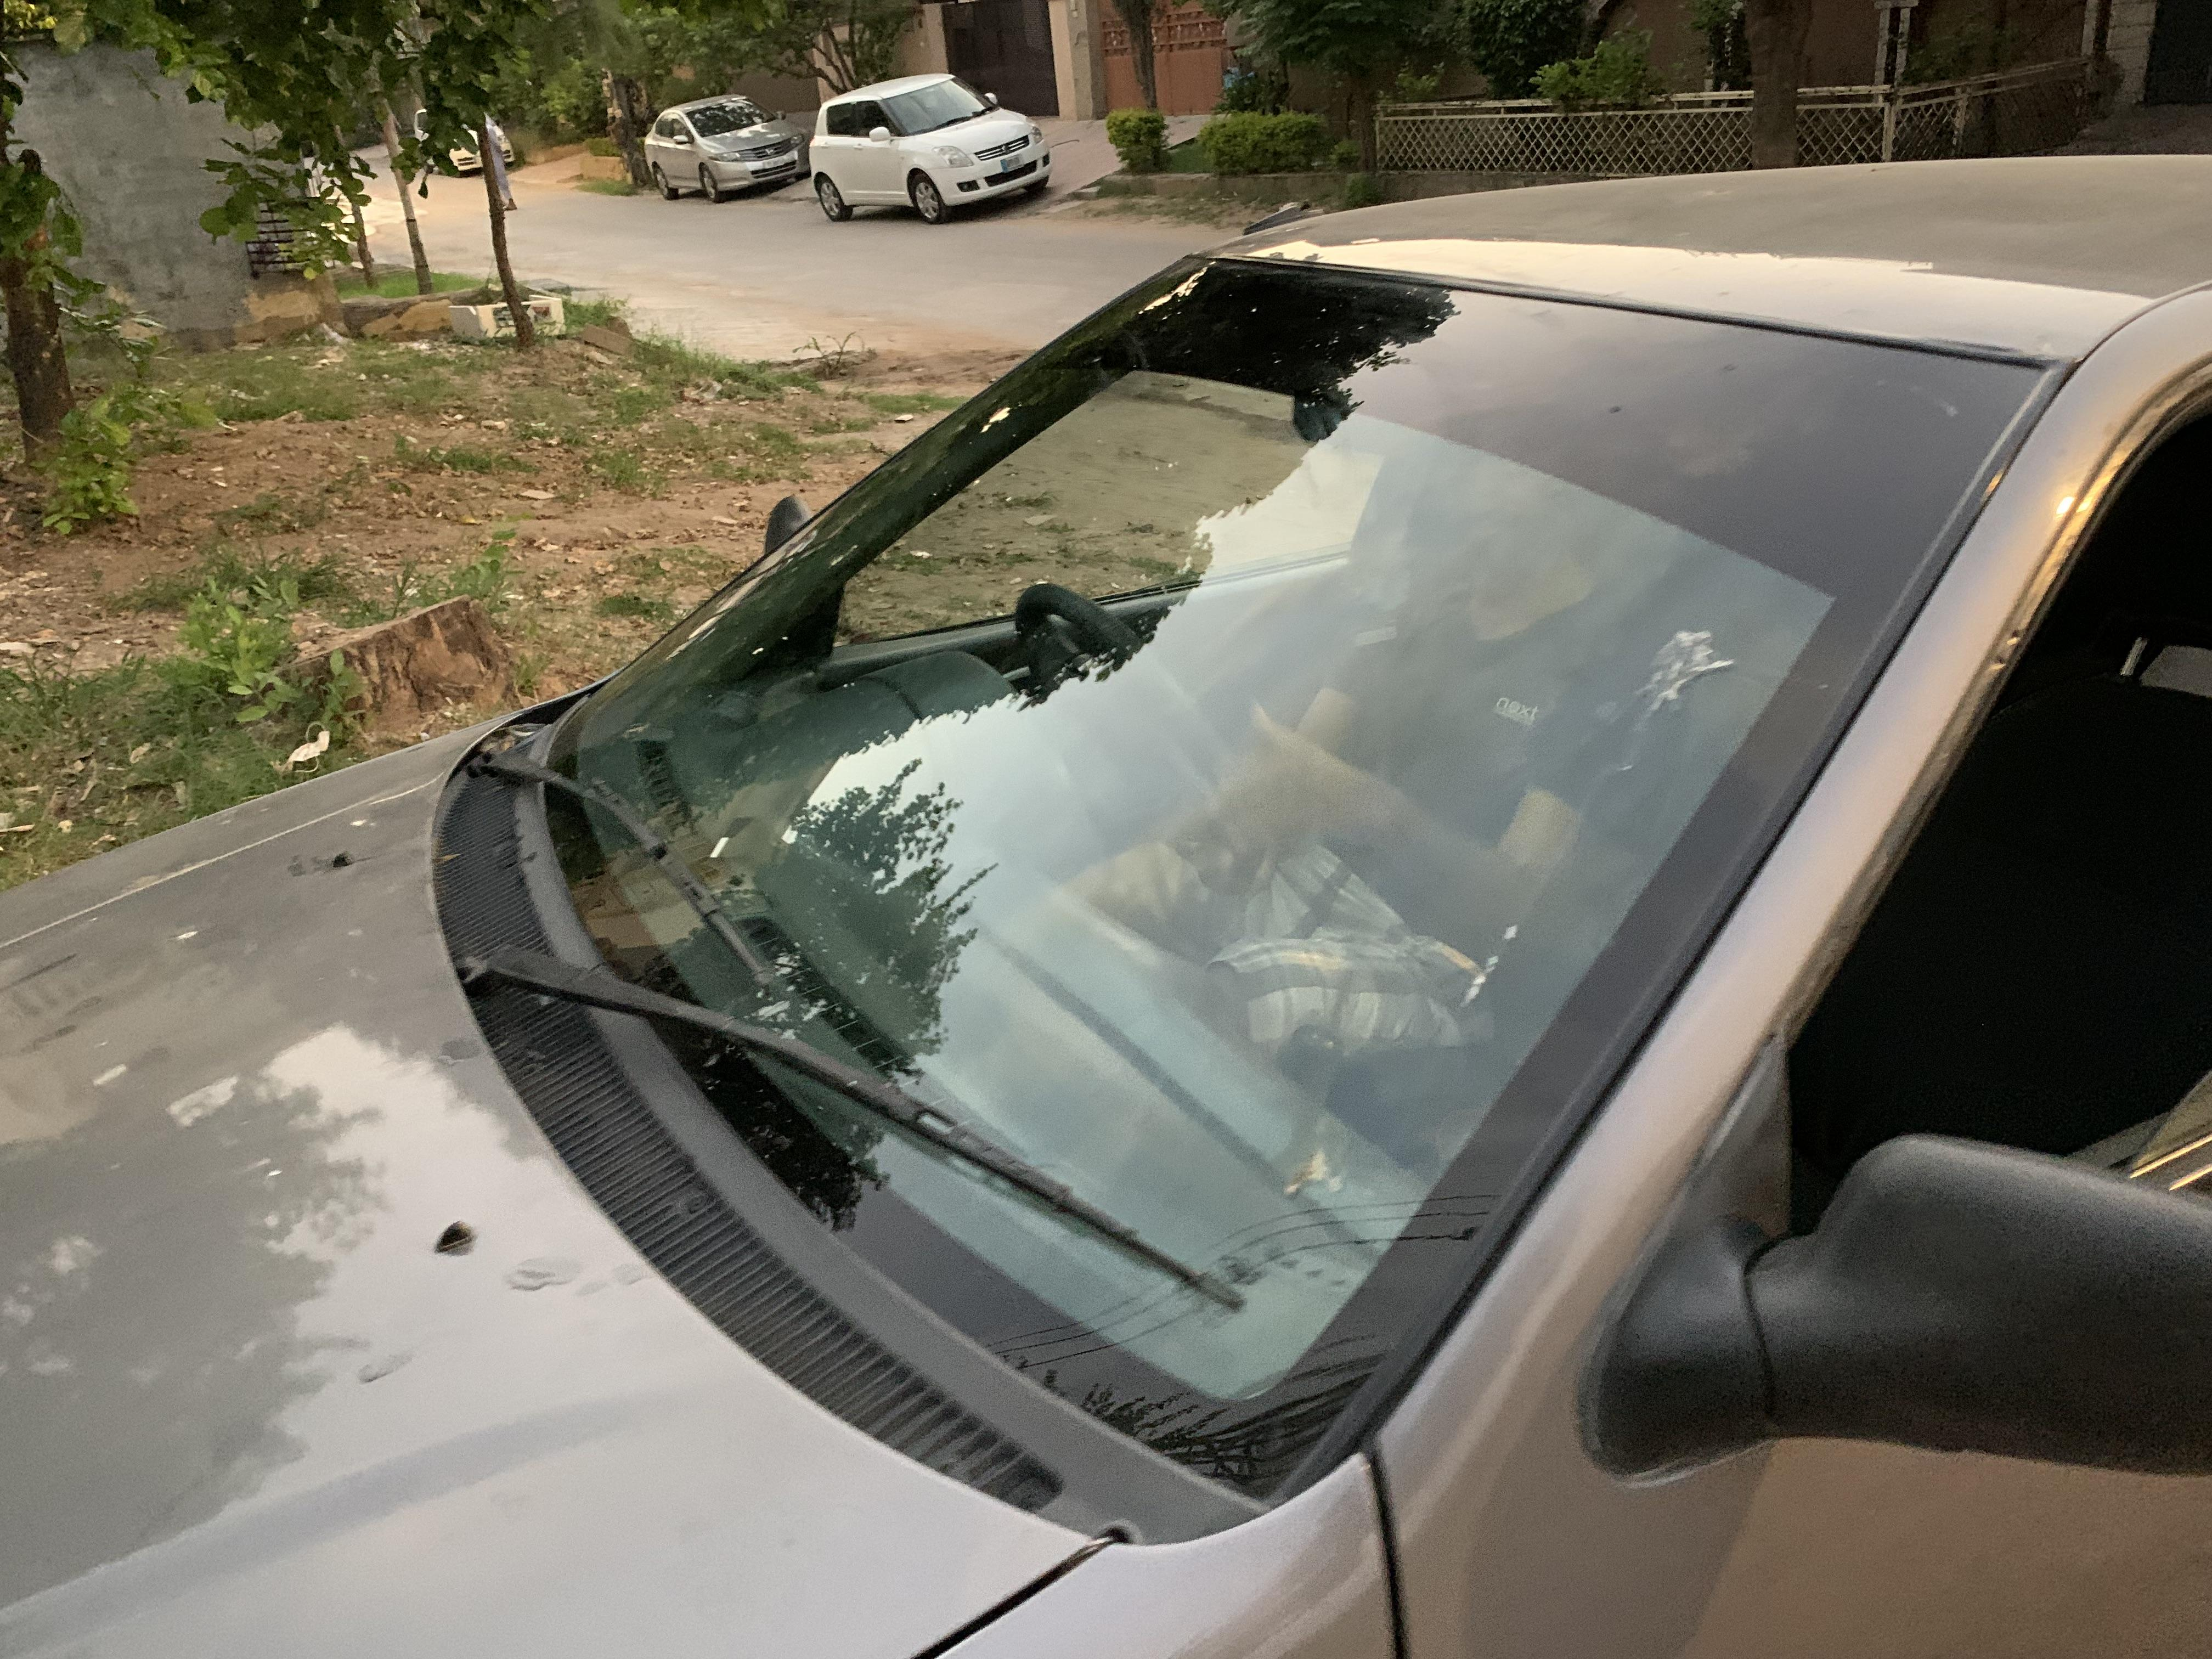windshield: (446, 220, 2113, 1591)
